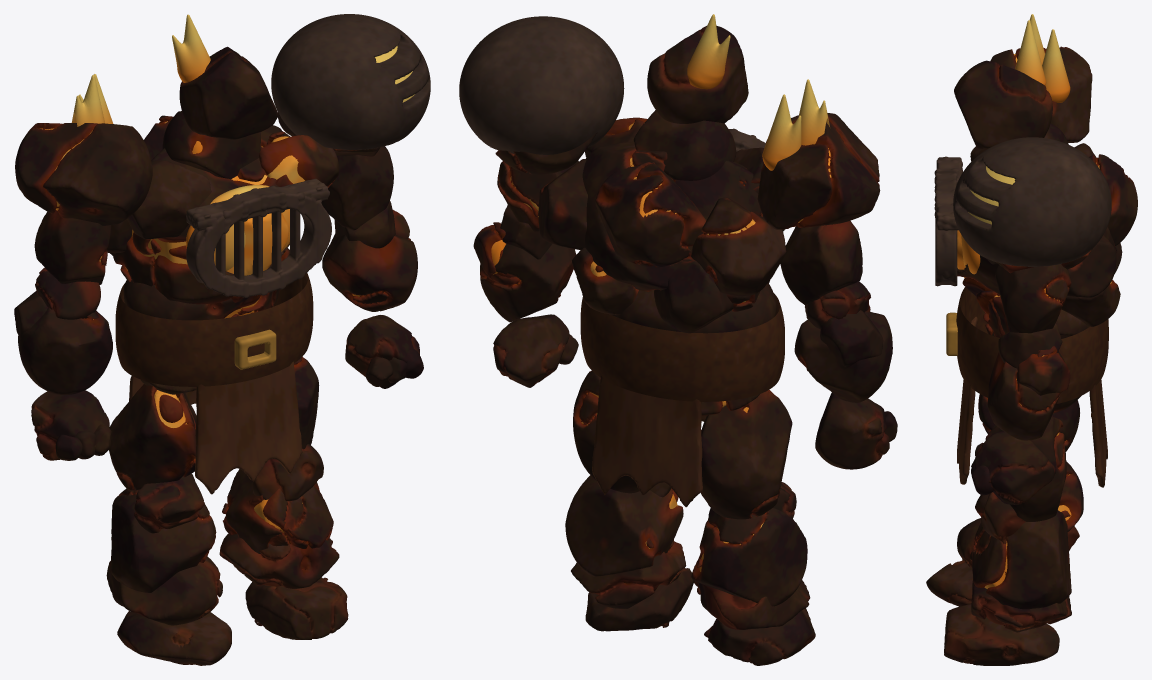
The model's file is forgeborn-sculpt.glb.
3 views of the same model, side by side, from view 1: azimuth 30°, elevation 25°; view 2: azimuth 150°, elevation 25°; view 3: azimuth 270°, elevation 25° (orthographic). The views are drawn at different scales.
Parts seen in each view (by area): view 1: forgeborn_sculpt; view 2: forgeborn_sculpt; view 3: forgeborn_sculpt.
Boxes of the visible parts, x1,y1,x2,y2 form: forgeborn_sculpt: (14,14,430,665); forgeborn_sculpt: (459,14,897,665); forgeborn_sculpt: (926,14,1137,665).
Size of the model in its own units: 1.28 by 1.91 by 0.6142.
